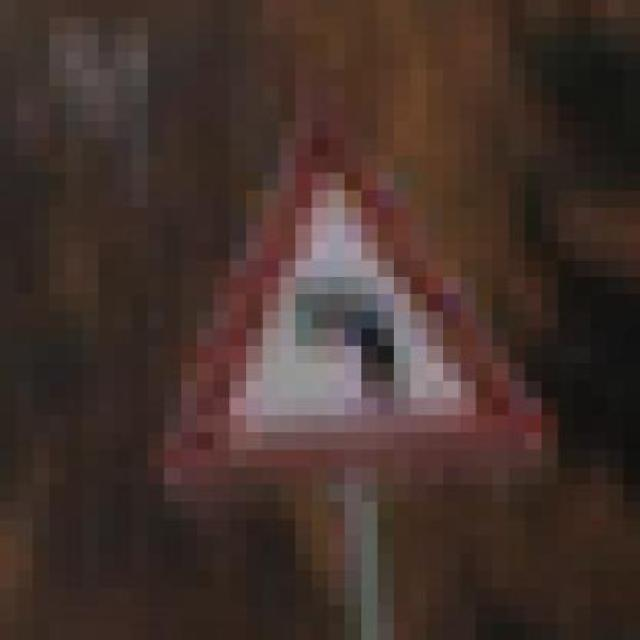Dangerous Left Curve Ahead: (105, 117, 564, 498)
